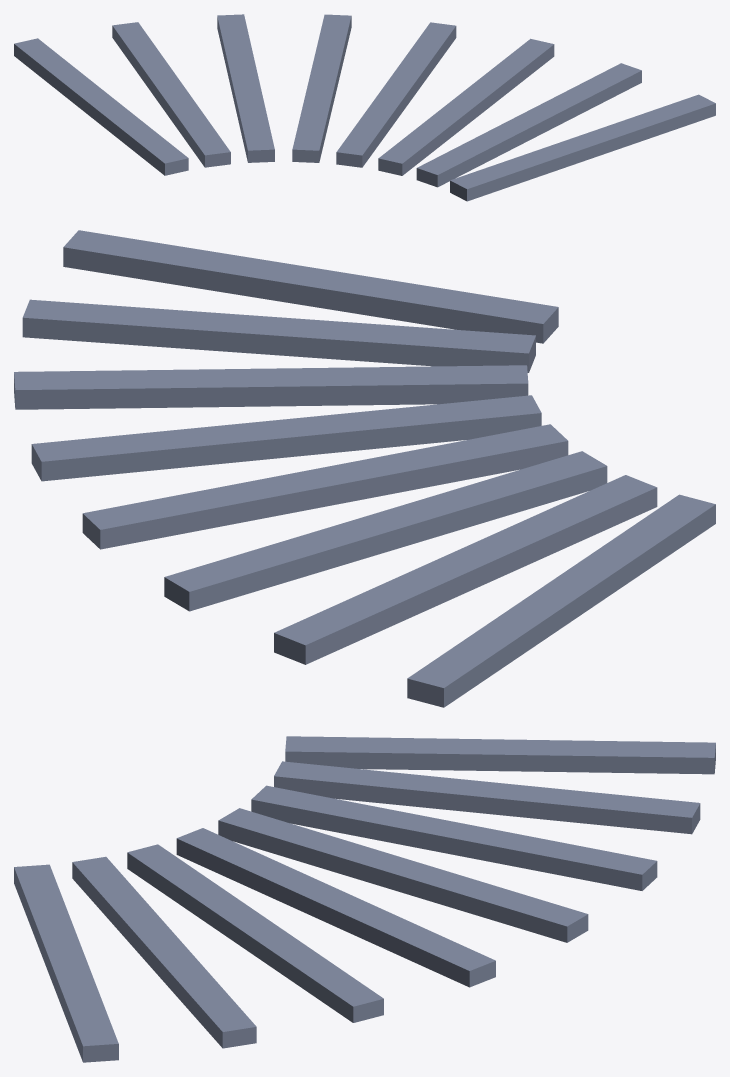
File: conveyor_corner_belt.glb
3 views of the same model, one above another, from view 1: azimuth 30°, elevation 25°; view 2: azimuth 150°, elevation 25°; view 3: azimuth 270°, elevation 25° (orthographic). The views are drawn at different scales.
Visible parts, largest first — view 1: conveyor_corner_belt; view 2: conveyor_corner_belt; view 3: conveyor_corner_belt.
Boxes of the visible parts, <box> form: conveyor_corner_belt: <box>14,14,715,201</box>; conveyor_corner_belt: <box>14,230,715,707</box>; conveyor_corner_belt: <box>14,736,715,1062</box>.
Bounding box in the file's own units: 1.42 × 0.035 × 1.36.
